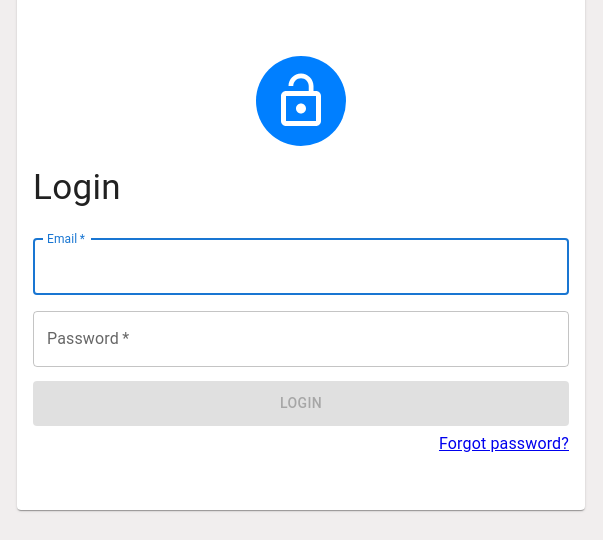
Scenario: <Login /> › should clear the email error as soon as a valid email is provided
Type "test" into the field labelled "Email *". click: {"x": 301, "y": 267}
box: top-left (33, 239), bottom-right (569, 295)
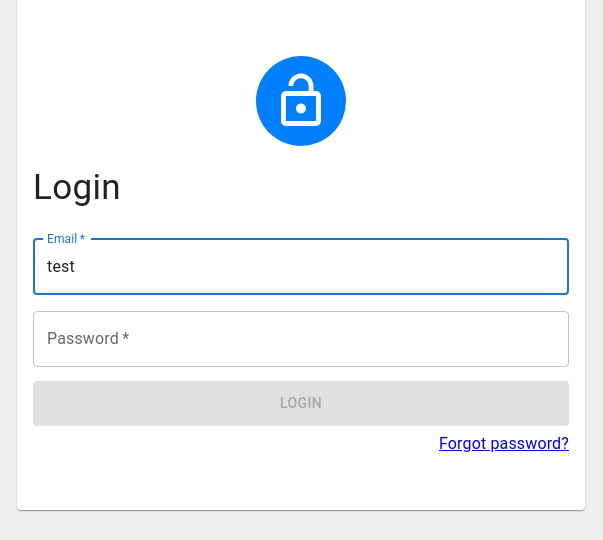
Press Tab
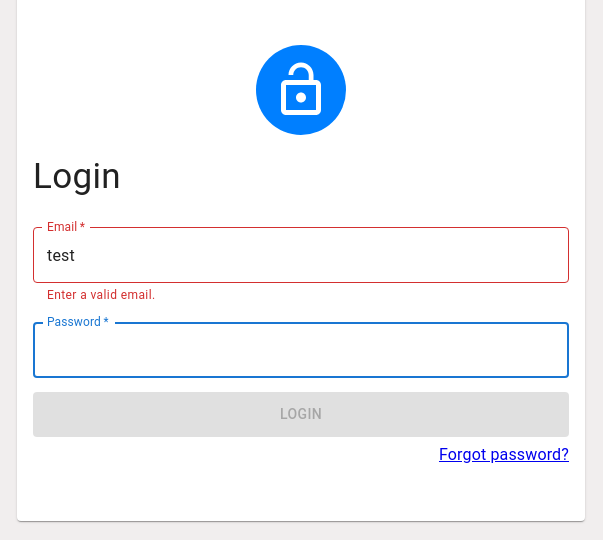
Expected: the text "Enter a valid email." is shown, top-left (47, 288), bottom-right (156, 302)
Type "test@test.com" into the field labelled "Email *". click: {"x": 301, "y": 255}
box: top-left (33, 227), bottom-right (569, 283)
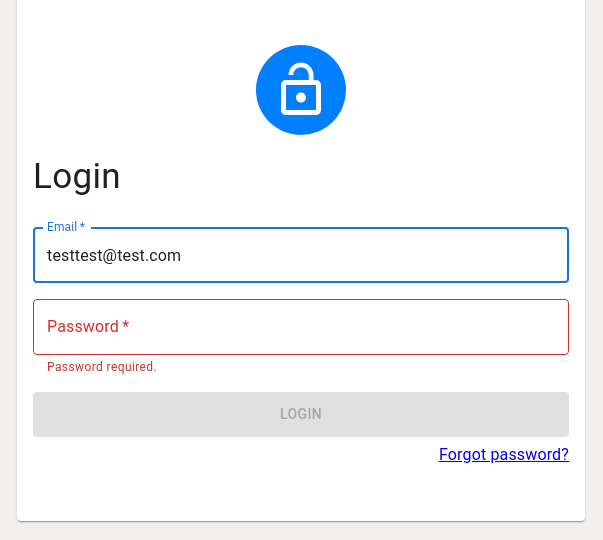
Expected: the text "Enter a valid email." is gone
